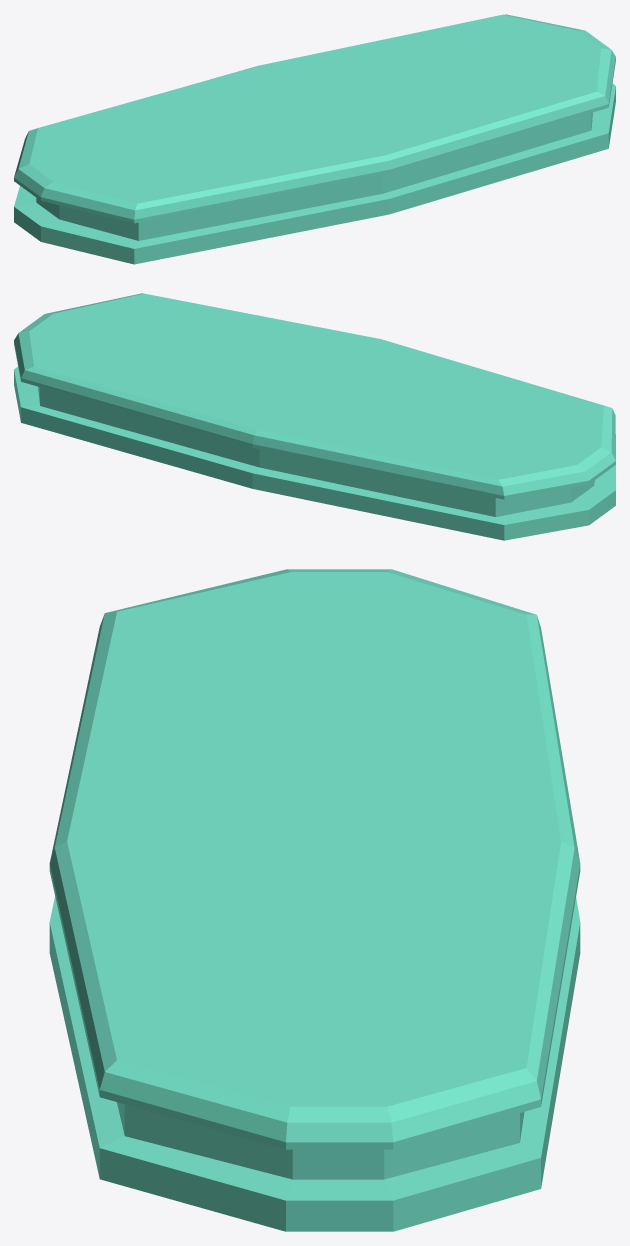
The model's file is Mesa Altar.fbx.
3 renders of one model, top to bottom at view 1: azimuth 30°, elevation 25°; view 2: azimuth 150°, elevation 25°; view 3: azimuth 270°, elevation 25°, orthographic. The views are drawn at different scales.
Parts seen in each view (by area): view 1: Altar.001; view 2: Altar.001; view 3: Altar.001.
Part boxes in pixels (x1,y1,x2,y2): Altar.001: [14, 14, 615, 264]; Altar.001: [14, 293, 615, 540]; Altar.001: [49, 569, 580, 1231].
Bounding box in the file's own units: 351 × 32.6 × 140.
